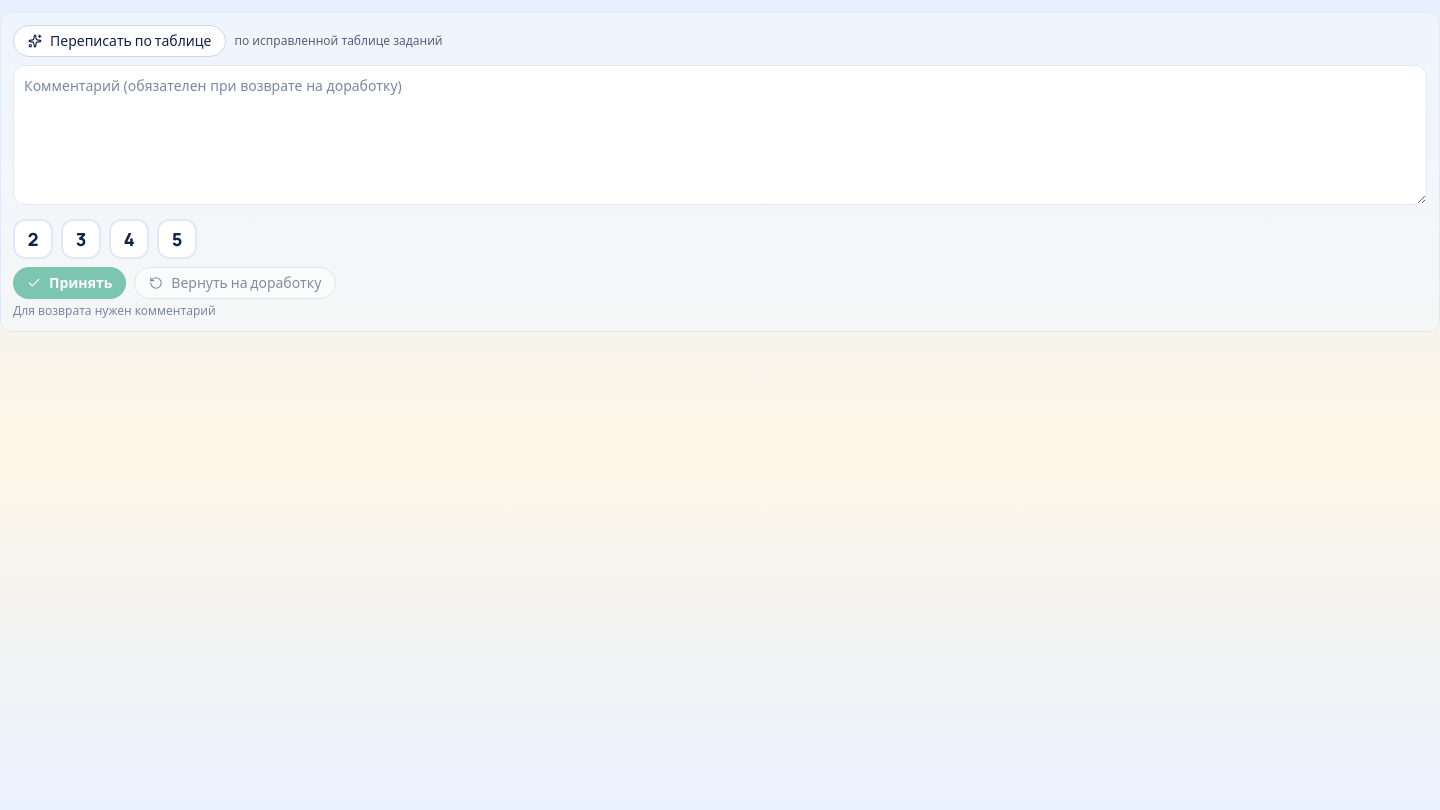
§213 — отказ › следующая удачная попытка убирает прежнюю ошибку
This screenshot has width=1440, height=810.
Click the button with test id "review-rewrite-button" at (120, 41), box 13,25 -> 226,57
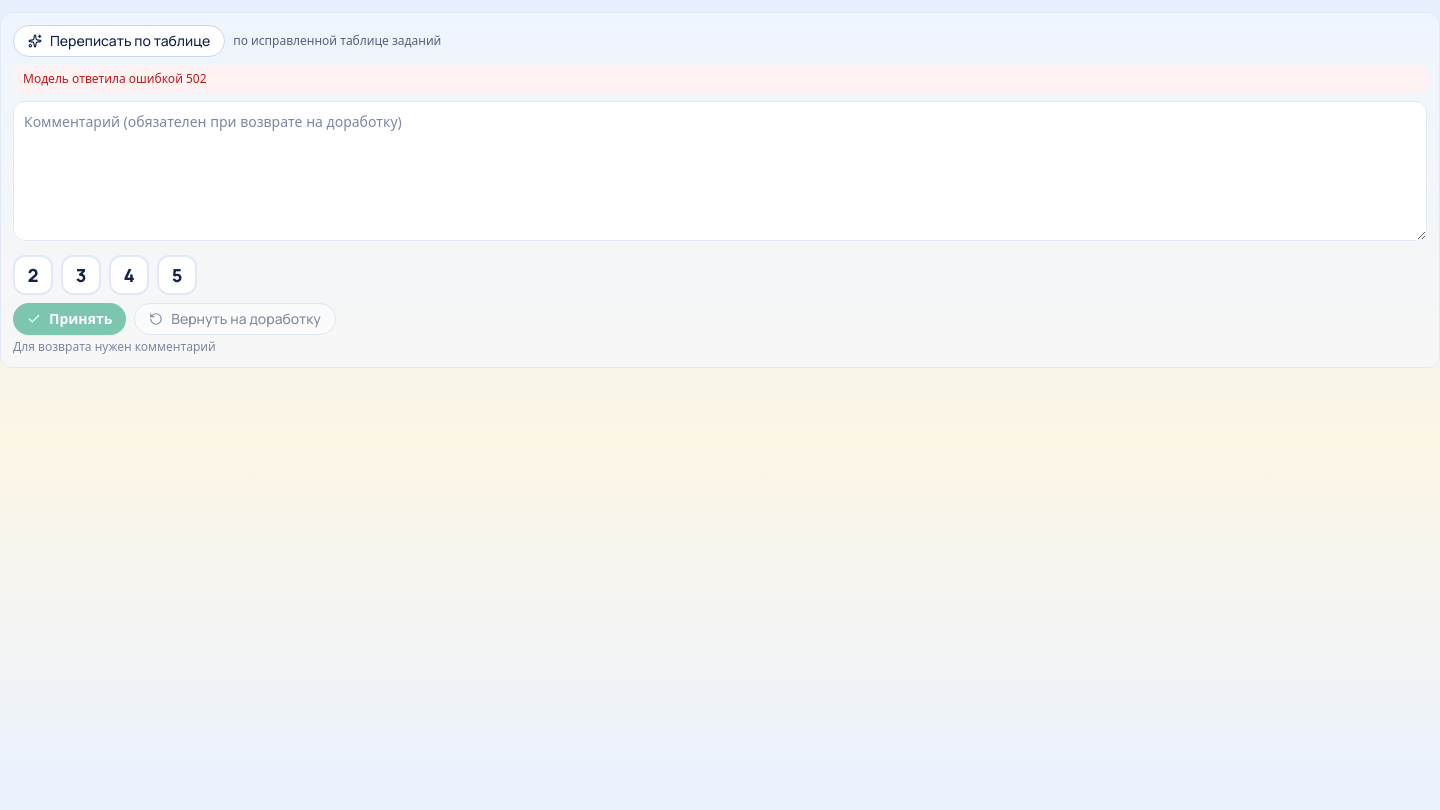
Check: the text "Модель ответила ошибкой 502" is shown, box 13,65 -> 1427,93
Click the button with test id "review-rewrite-button" at (119, 41), box 13,25 -> 225,57
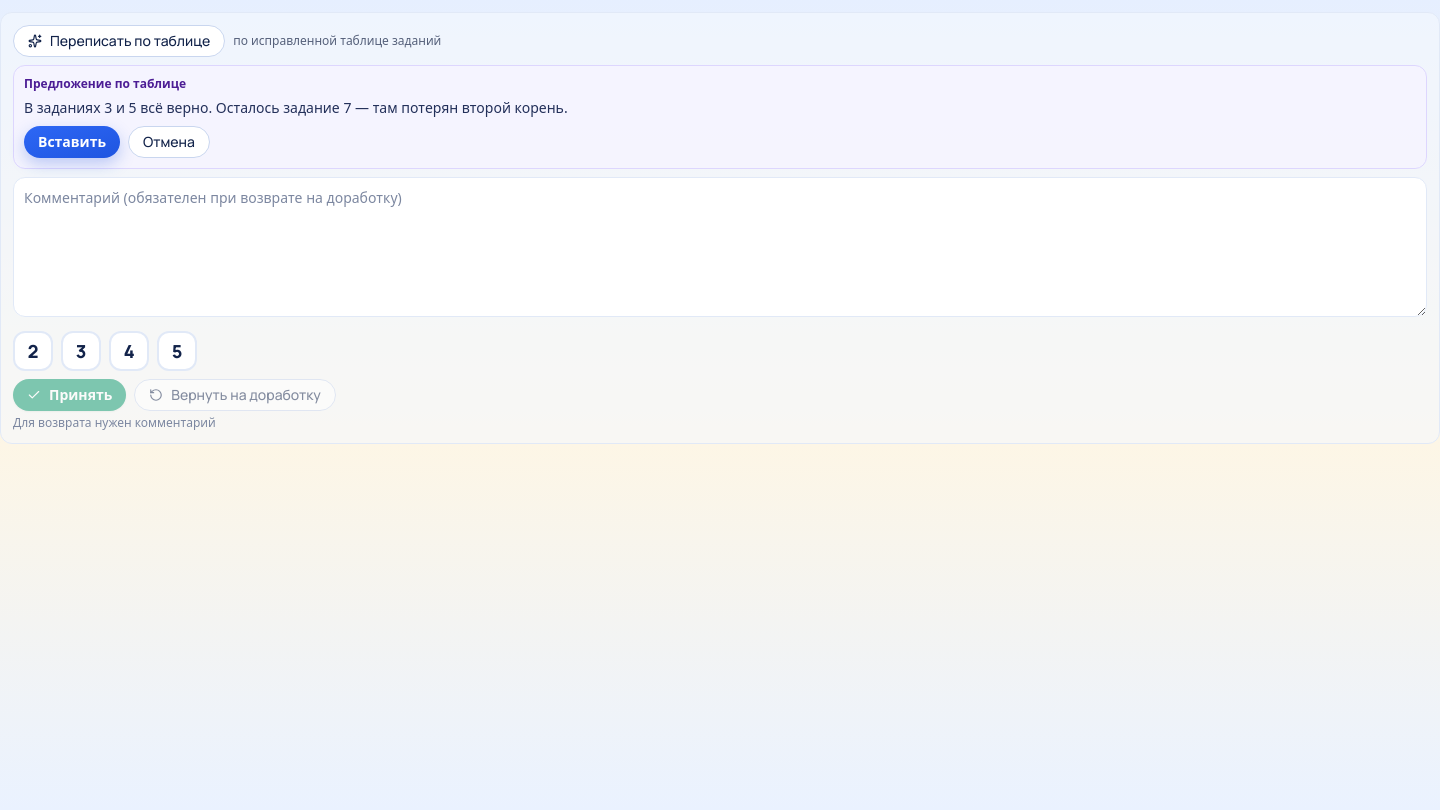
Check: the element with test id "review-rewrite-suggestion" is shown, box 13,65 -> 1427,169
Check: the text with test id "review-rewrite-error" is gone
